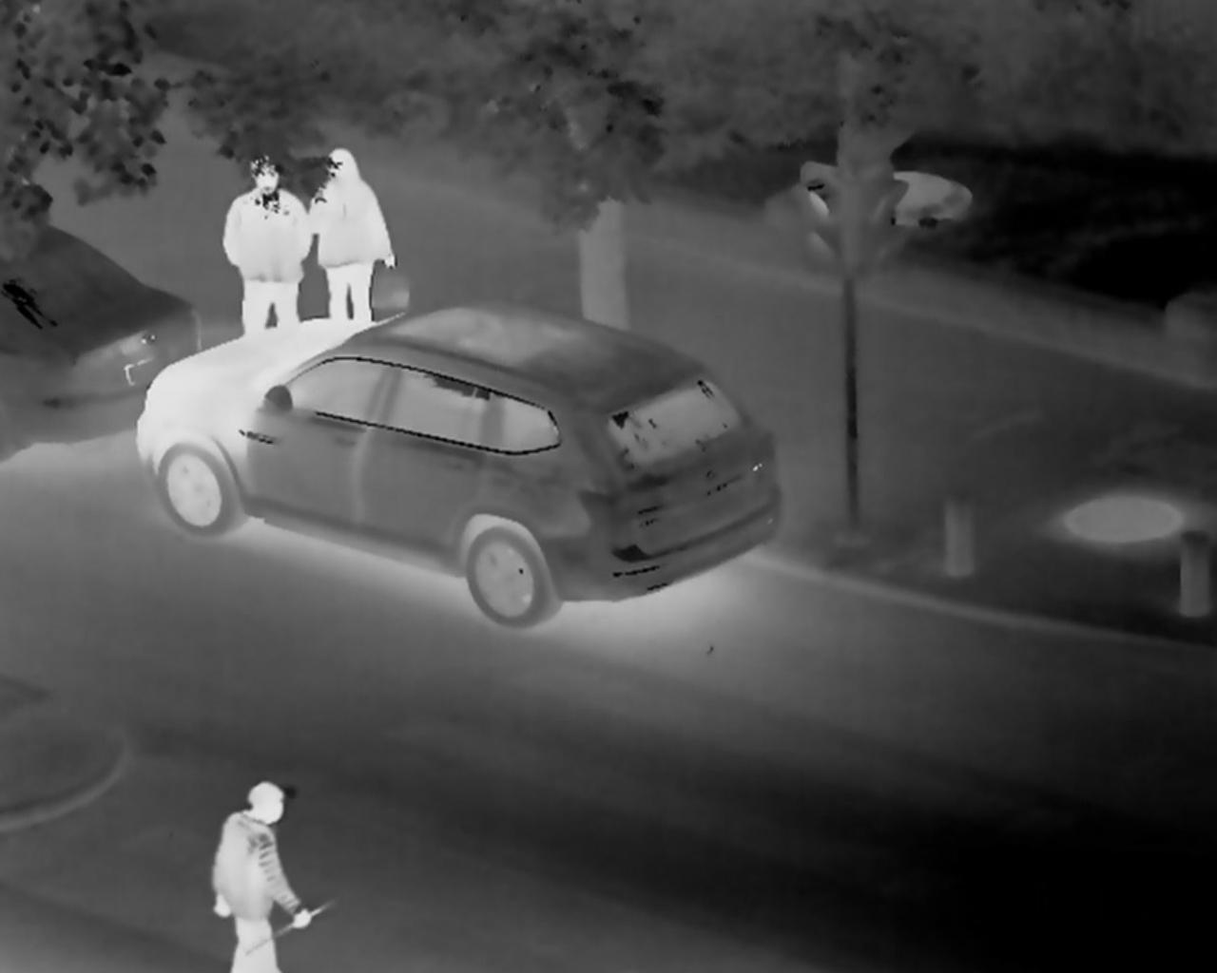person: (178, 768, 325, 973), (313, 144, 423, 346), (233, 152, 310, 302)
